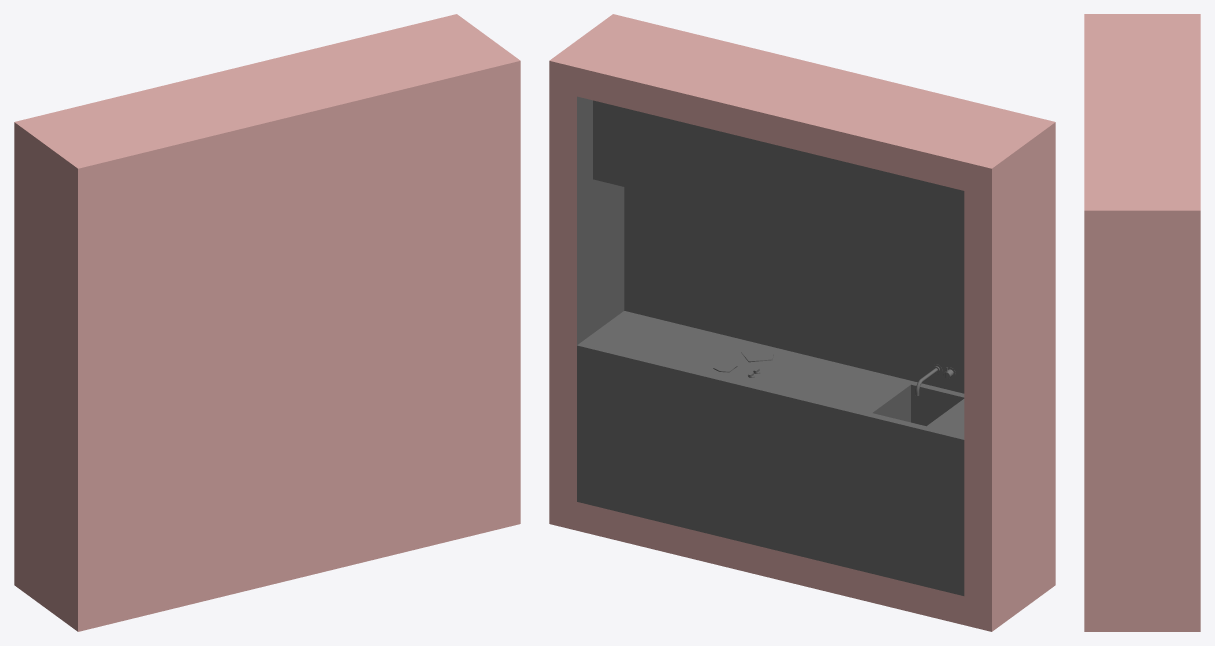
Rendered from kitchen1.glb.
3 renders of one model, left to right at view 1: azimuth 30°, elevation 25°; view 2: azimuth 150°, elevation 25°; view 3: azimuth 270°, elevation 25°, orthographic. The views are drawn at different scales.
Visible parts, largest first — view 1: Kitchen1.002; view 2: Kitchen1.002; view 3: Kitchen1.002.
Boxes of the visible parts, box(x1,y1,x2,y2) form: Kitchen1.002: box(14, 14, 520, 631); Kitchen1.002: box(549, 14, 1055, 631); Kitchen1.002: box(1084, 14, 1200, 631).
Size of the model in its own units: 9.99 by 9.99 by 2.5.
